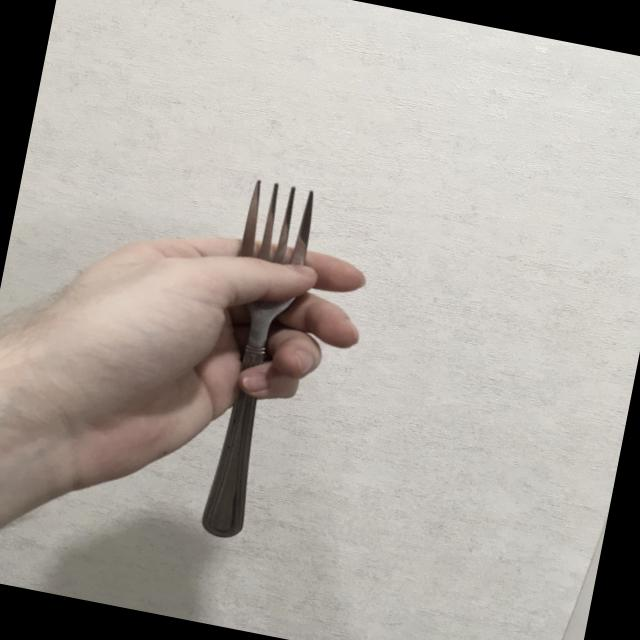fork: (182, 173, 322, 544)
